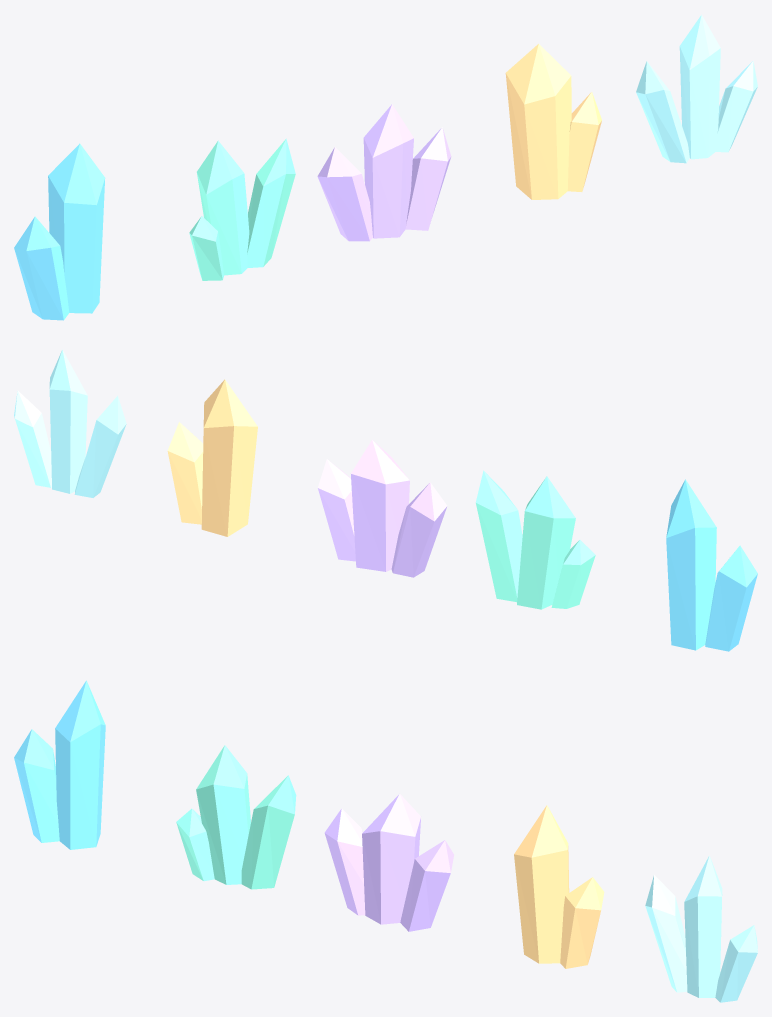
Rendered from rocklock-crystals.fbx.
3 renders of one model, top to bottom at view 1: azimuth 30°, elevation 25°; view 2: azimuth 150°, elevation 25°; view 3: azimuth 330°, elevation 25°, orthographic.
Visible parts, largest first — view 1: AmberTwin_0, AzureSpears_0, AmethystCrown_0, FrostSpray_0, JadeFan_0, JadeFan_1, AzureSpears_1, AmethystCrown_1, FrostSpray_1, AmethystCrown_2, AmberTwin_1, FrostSpray_2 (+1 smaller); view 2: AmberTwin_0, AzureSpears_0, AmethystCrown_0, JadeFan_0, FrostSpray_0, JadeFan_1, AzureSpears_1, AmethystCrown_1, AmberTwin_1, FrostSpray_1, AmethystCrown_2, FrostSpray_2 (+1 smaller); view 3: AzureSpears_0, AmberTwin_0, AmethystCrown_0, JadeFan_0, FrostSpray_0, JadeFan_1, AzureSpears_1, AmethystCrown_2, AmberTwin_1, FrostSpray_1, AmethystCrown_1, FrostSpray_2 (+1 smaller).
Boxes of the visible parts, box(x1,y1,x2,y2) form: AmberTwin_0: box(505, 43, 571, 199); AzureSpears_0: box(48, 143, 105, 313); AmethystCrown_0: box(363, 104, 413, 238); FrostSpray_0: box(679, 14, 720, 159); JadeFan_0: box(196, 140, 249, 275); JadeFan_1: box(247, 138, 295, 267); AzureSpears_1: box(14, 216, 69, 320); AmethystCrown_1: box(317, 147, 372, 241); FrostSpray_1: box(636, 61, 689, 163); AmethystCrown_2: box(405, 127, 451, 230); AmberTwin_1: box(567, 92, 601, 191); FrostSpray_2: box(715, 61, 757, 152); AmberTwin_0: box(201, 379, 257, 536); AzureSpears_0: box(666, 479, 716, 650); AmethystCrown_0: box(351, 440, 409, 571); JadeFan_0: box(517, 476, 575, 609); FrostSpray_0: box(49, 349, 87, 493); JadeFan_1: box(475, 470, 522, 602); AzureSpears_1: box(705, 545, 757, 651); AmethystCrown_1: box(391, 482, 447, 577); AmberTwin_1: box(167, 422, 203, 524); FrostSpray_1: box(74, 395, 126, 497); AmethystCrown_2: box(318, 459, 355, 561); FrostSpray_2: box(14, 390, 51, 487); AzureSpears_0: box(55, 680, 105, 849); AmberTwin_0: box(514, 805, 569, 963); AmethystCrown_0: box(362, 793, 420, 924); JadeFan_0: box(196, 745, 250, 884); FrostSpray_0: box(684, 855, 722, 997); JadeFan_1: box(241, 775, 296, 889); AzureSpears_1: box(14, 729, 59, 842); AmethystCrown_2: box(400, 840, 453, 931); AmberTwin_1: box(560, 877, 604, 968); FrostSpray_1: box(645, 875, 687, 992); AmethystCrown_1: box(324, 808, 365, 915); FrostSpray_2: box(715, 925, 757, 1002).
Size of the model in its own units: 3777 by 780 by 256.
